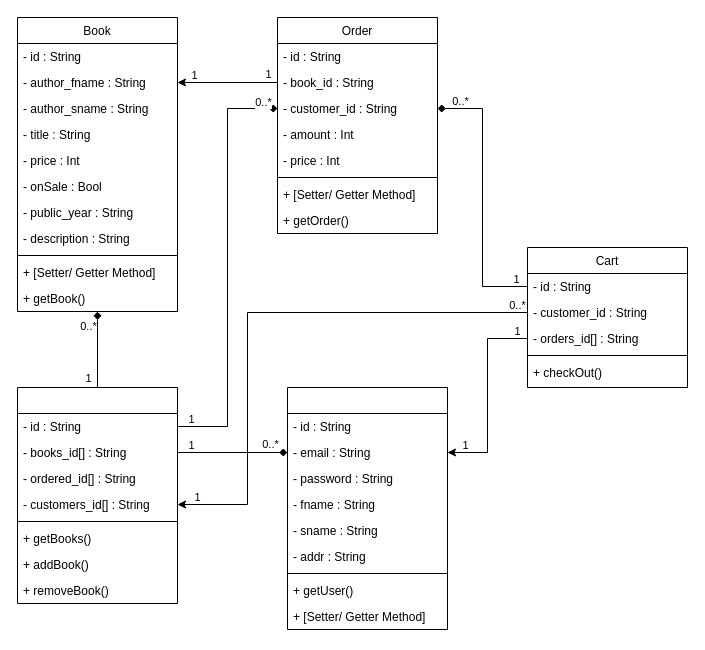
Some shapes in this 705 by 650 pixel diagram are drawn without their labels. Here are the shapes that lost their labels. From the top down, the box of each, then its label:
(16, 386, 178, 604): BookStore
(286, 386, 448, 630): Customer
